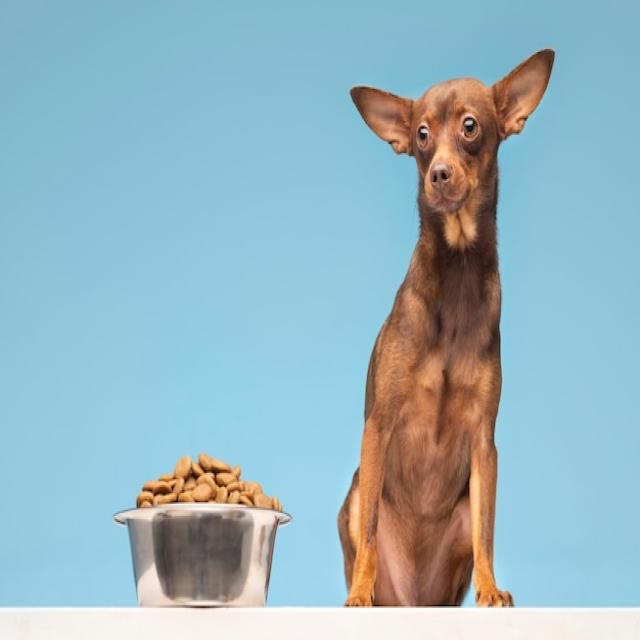Dog: (339, 50, 553, 605)
